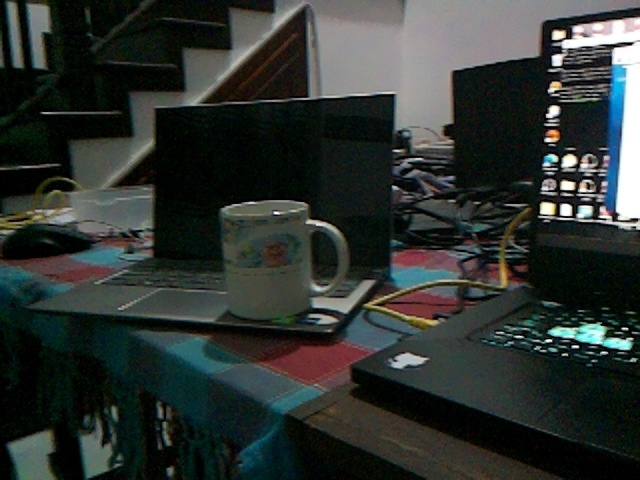mug: (216, 200, 350, 322)
